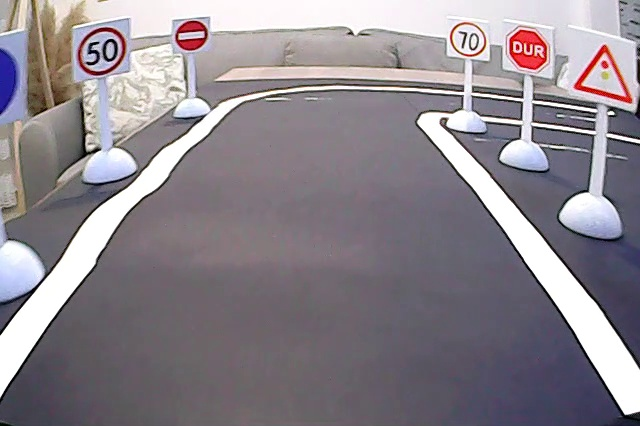do not enter: (173, 19, 210, 53)
red light: (569, 31, 636, 109)
speed limit 50: (73, 20, 130, 79)
speed limit 70: (445, 15, 489, 61)
stop sign: (503, 20, 554, 76)
